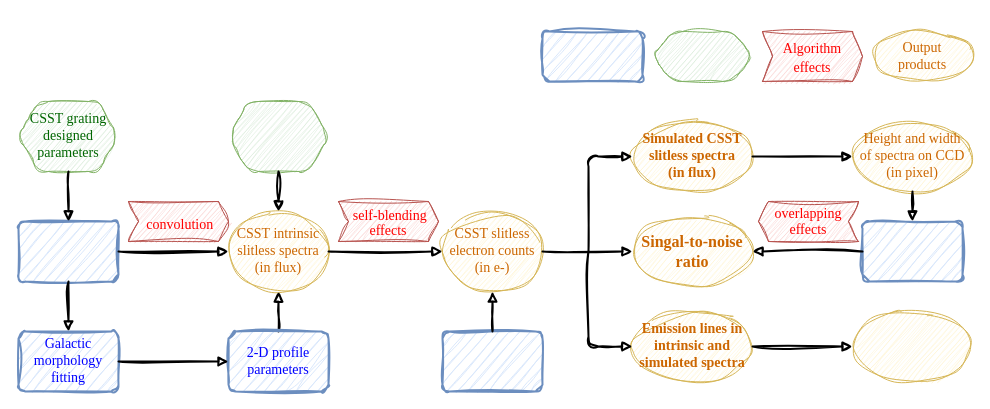
This 990x409 diagram has some shape labels left out. Each missing label, with the centre of its shape:
"Background, dark current, read-out noise" belongs at pixel 492 361.
"Detected emission line information" belongs at pixel 912 346.
"High-resolution spectra SED library" belongs at pixel 68 251.
"Input parameters" belongs at pixel 592 56.
"Instrumental parameters" belongs at pixel 702 56.
"R.A. and Decl. of sources in cluster fields" belongs at pixel 912 251.
"Throughputs and survey strategy" belongs at pixel 278 136.
